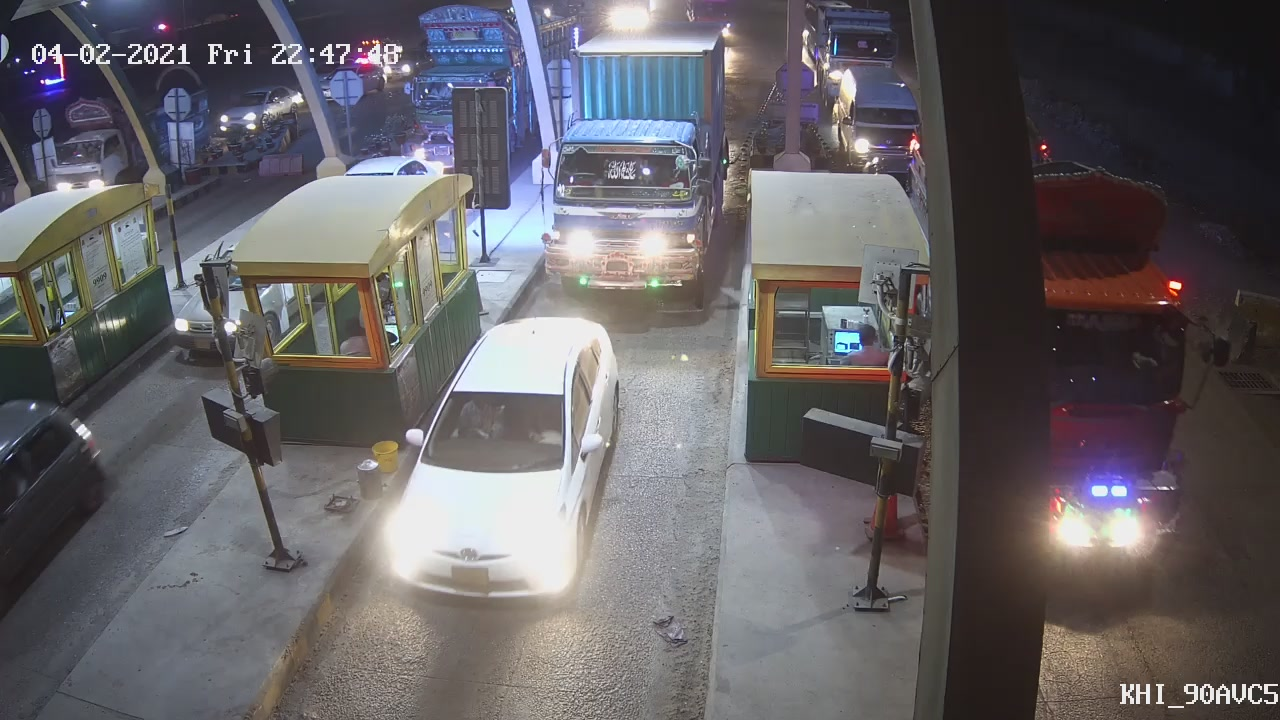F5: (532, 29, 731, 294)
F6: (380, 311, 627, 605)
